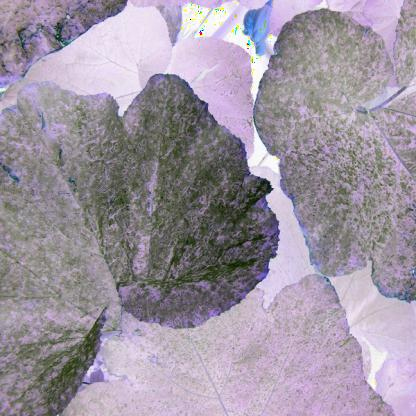squash powdery mildew leaf: (1, 62, 287, 391), (253, 4, 415, 305)
